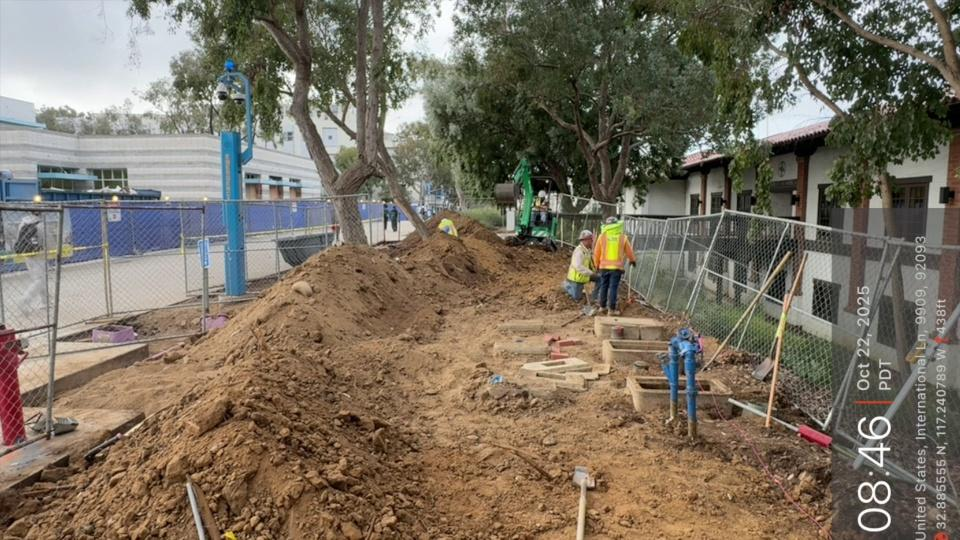Exacavator: (497, 155, 564, 252)
